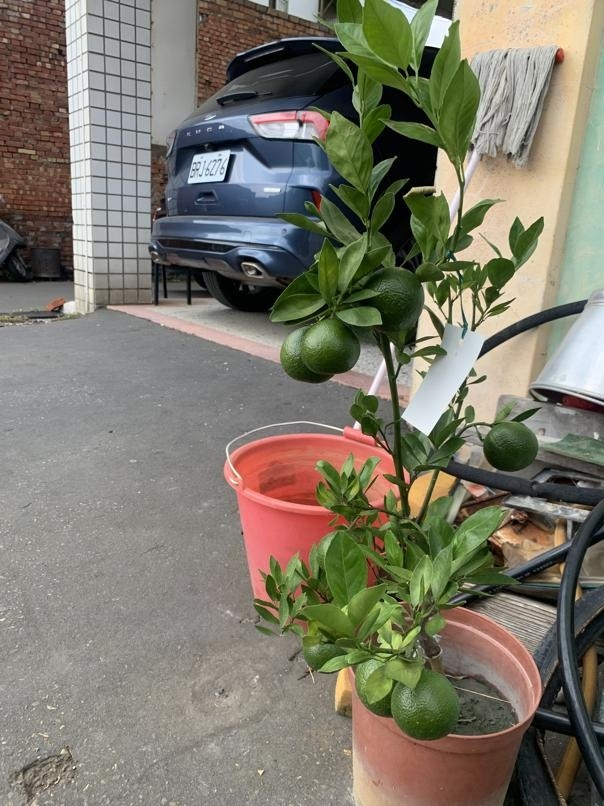Tangerine: (391, 666, 465, 745), (280, 313, 362, 382), (367, 264, 426, 329), (484, 417, 539, 472)
